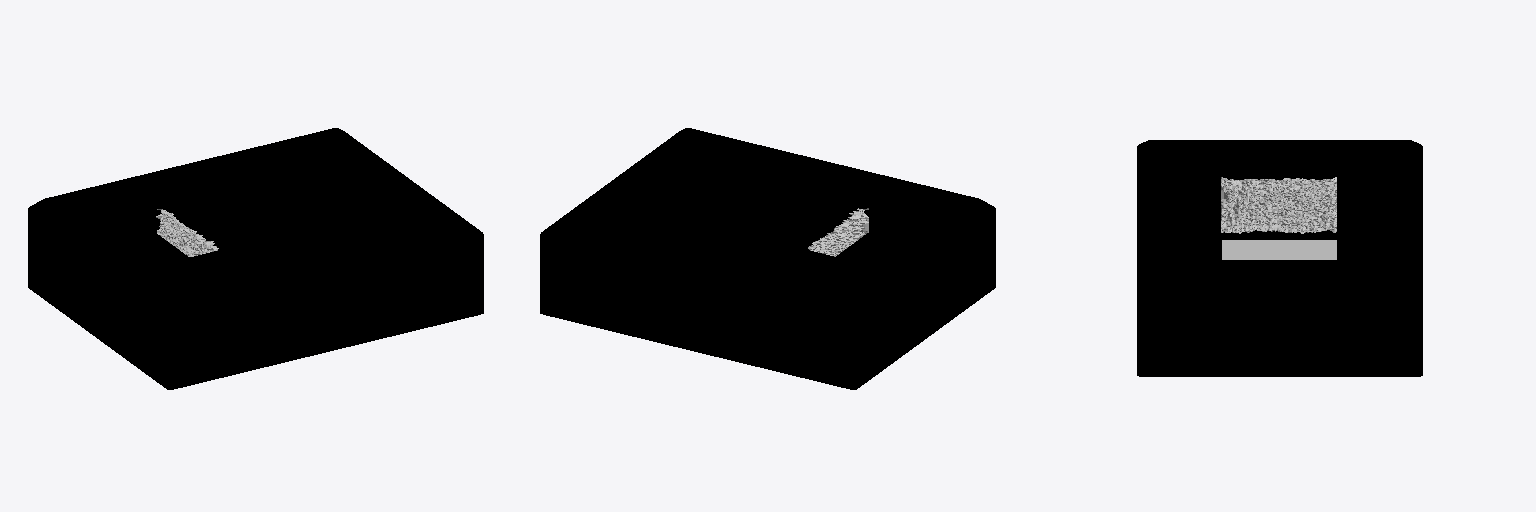
File: table.obj
3 renders of one model, left to right at view 1: azimuth 30°, elevation 25°; view 2: azimuth 150°, elevation 25°; view 3: azimuth 270°, elevation 25°, orthographic.
Visible parts, largest first — view 1: Cube.001; view 2: Cube.001; view 3: Cube.001.
Part boxes in pixels (bbox=[...]): Cube.001: bbox=[28, 128, 483, 389]; Cube.001: bbox=[540, 128, 995, 389]; Cube.001: bbox=[1137, 140, 1422, 376].
Bounding box in the file's own units: 117 × 31.14 × 91.72.